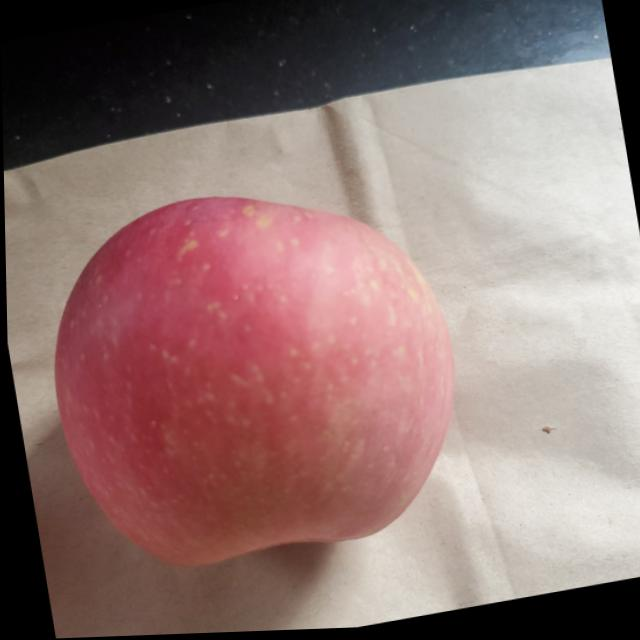apple: (26, 158, 476, 594)
